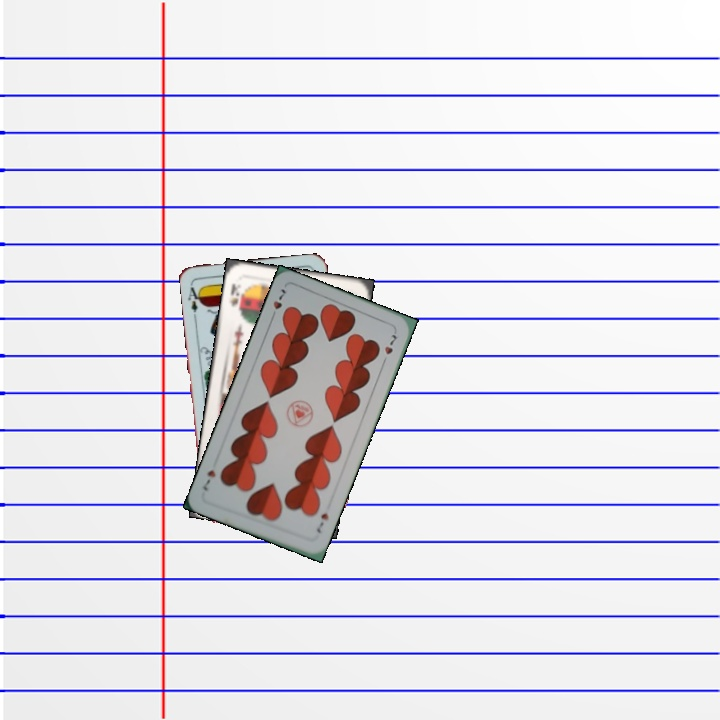EA: (184, 280, 205, 320)
H7: (267, 285, 288, 322), (313, 509, 331, 536)
SK: (226, 280, 245, 313)
